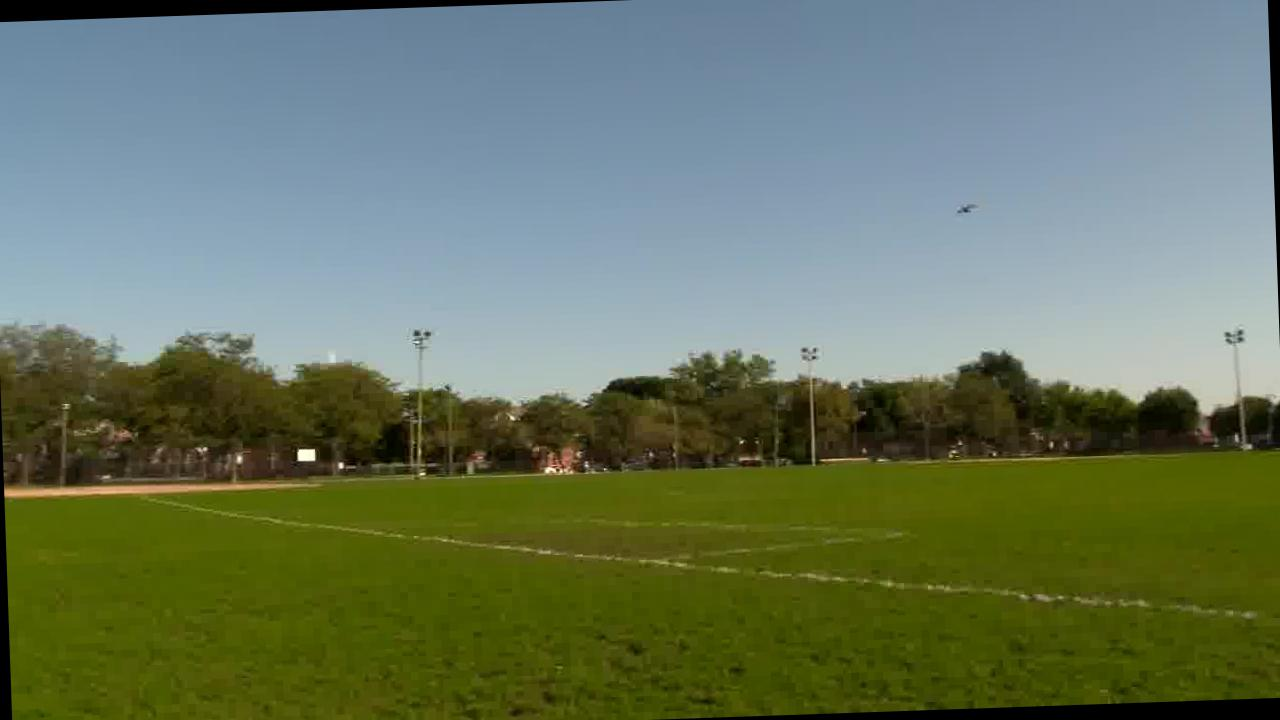drone: (942, 193, 984, 221)
